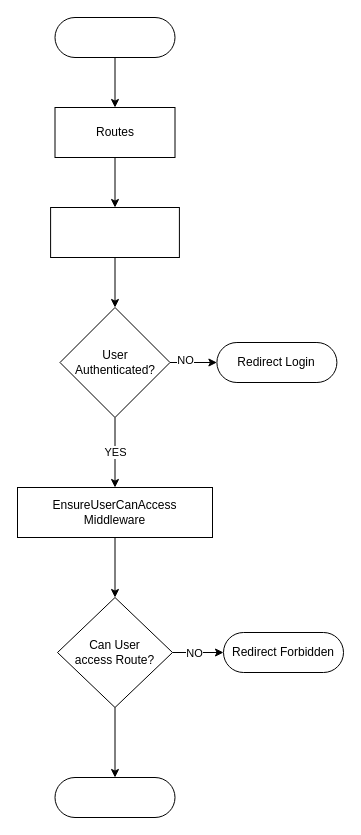
Image size: 361x835. Some labels were removed from this diagram. Here are the shapes that lost their labels. From the top down, the centre of each, then its label:
point (114, 37): Start
point (114, 232): Auth Middleware
point (114, 797): Response
